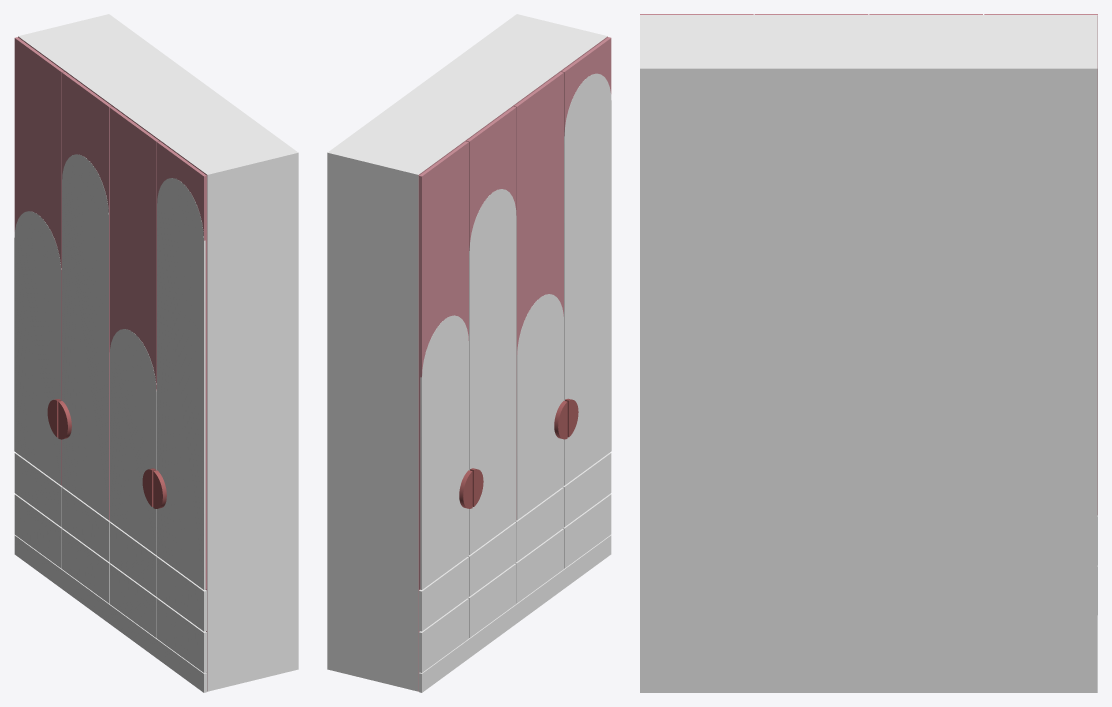
File: Furn3_chest_right_color1_joined.fbx
The picture shows the model from 3 angles, left to right: view 1: azimuth 30°, elevation 25°; view 2: azimuth 150°, elevation 25°; view 3: azimuth 270°, elevation 25°; orthographic projection. The views are drawn at different scales.
Visible parts, largest first — view 1: Цилиндр.053; view 2: Цилиндр.053; view 3: Цилиндр.053.
Boxes of the visible parts, x1,y1,x2,y2 form: Цилиндр.053: (14,14,298,692); Цилиндр.053: (327,14,611,692); Цилиндр.053: (640,14,1097,692).
Bounding box in the file's own units: 125 × 626 × 416.
